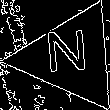N_S: (46, 31, 95, 84)
